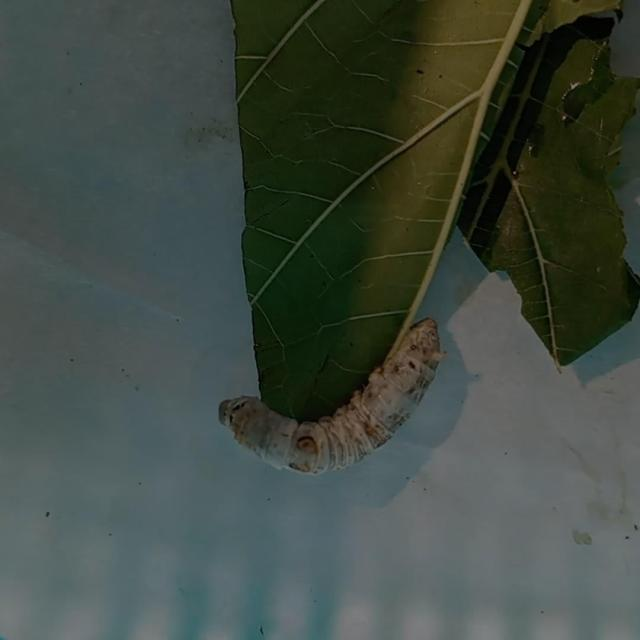Grasserie: (205, 296, 484, 499)
